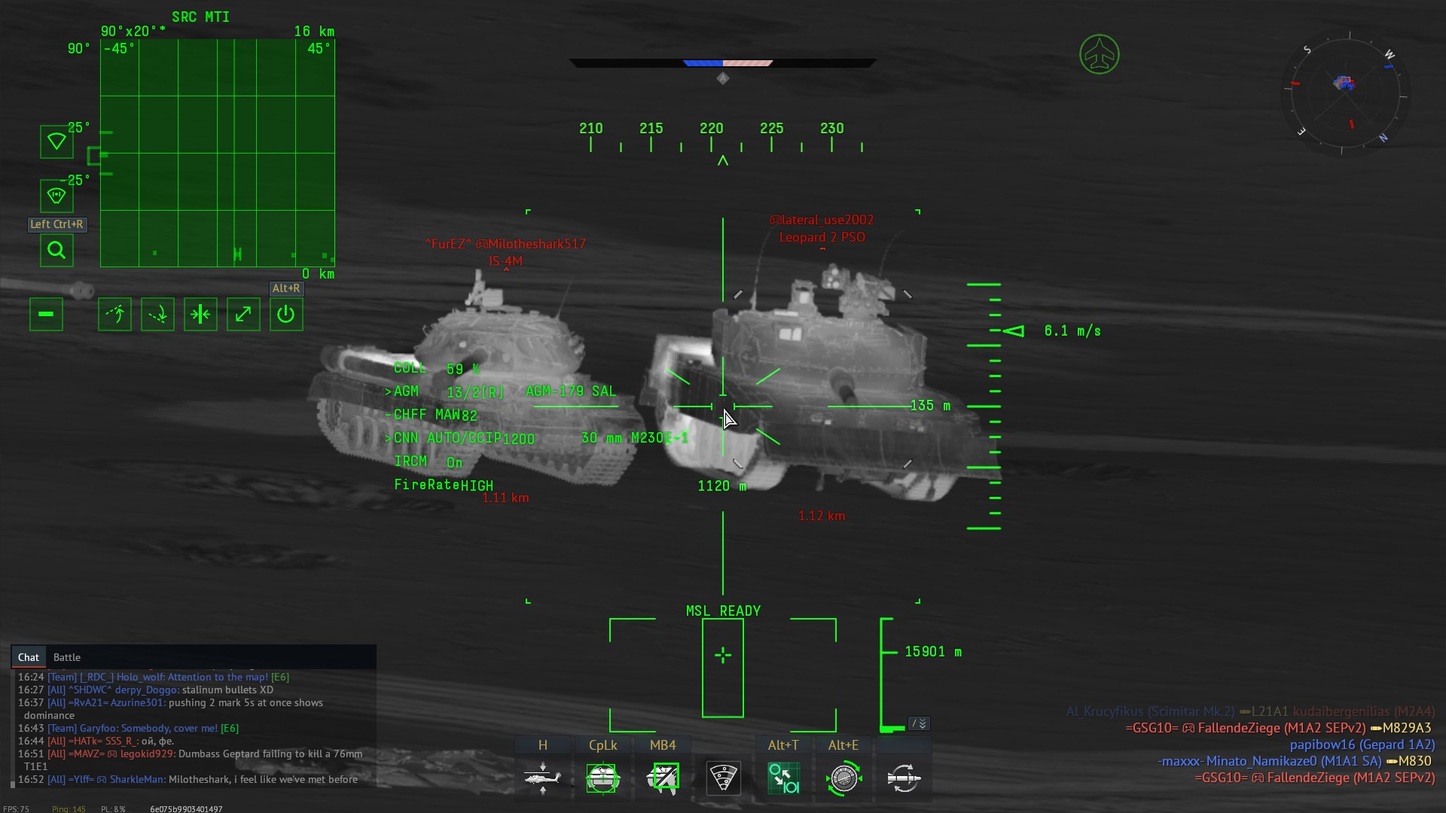leopard2: (637, 266, 999, 504)
